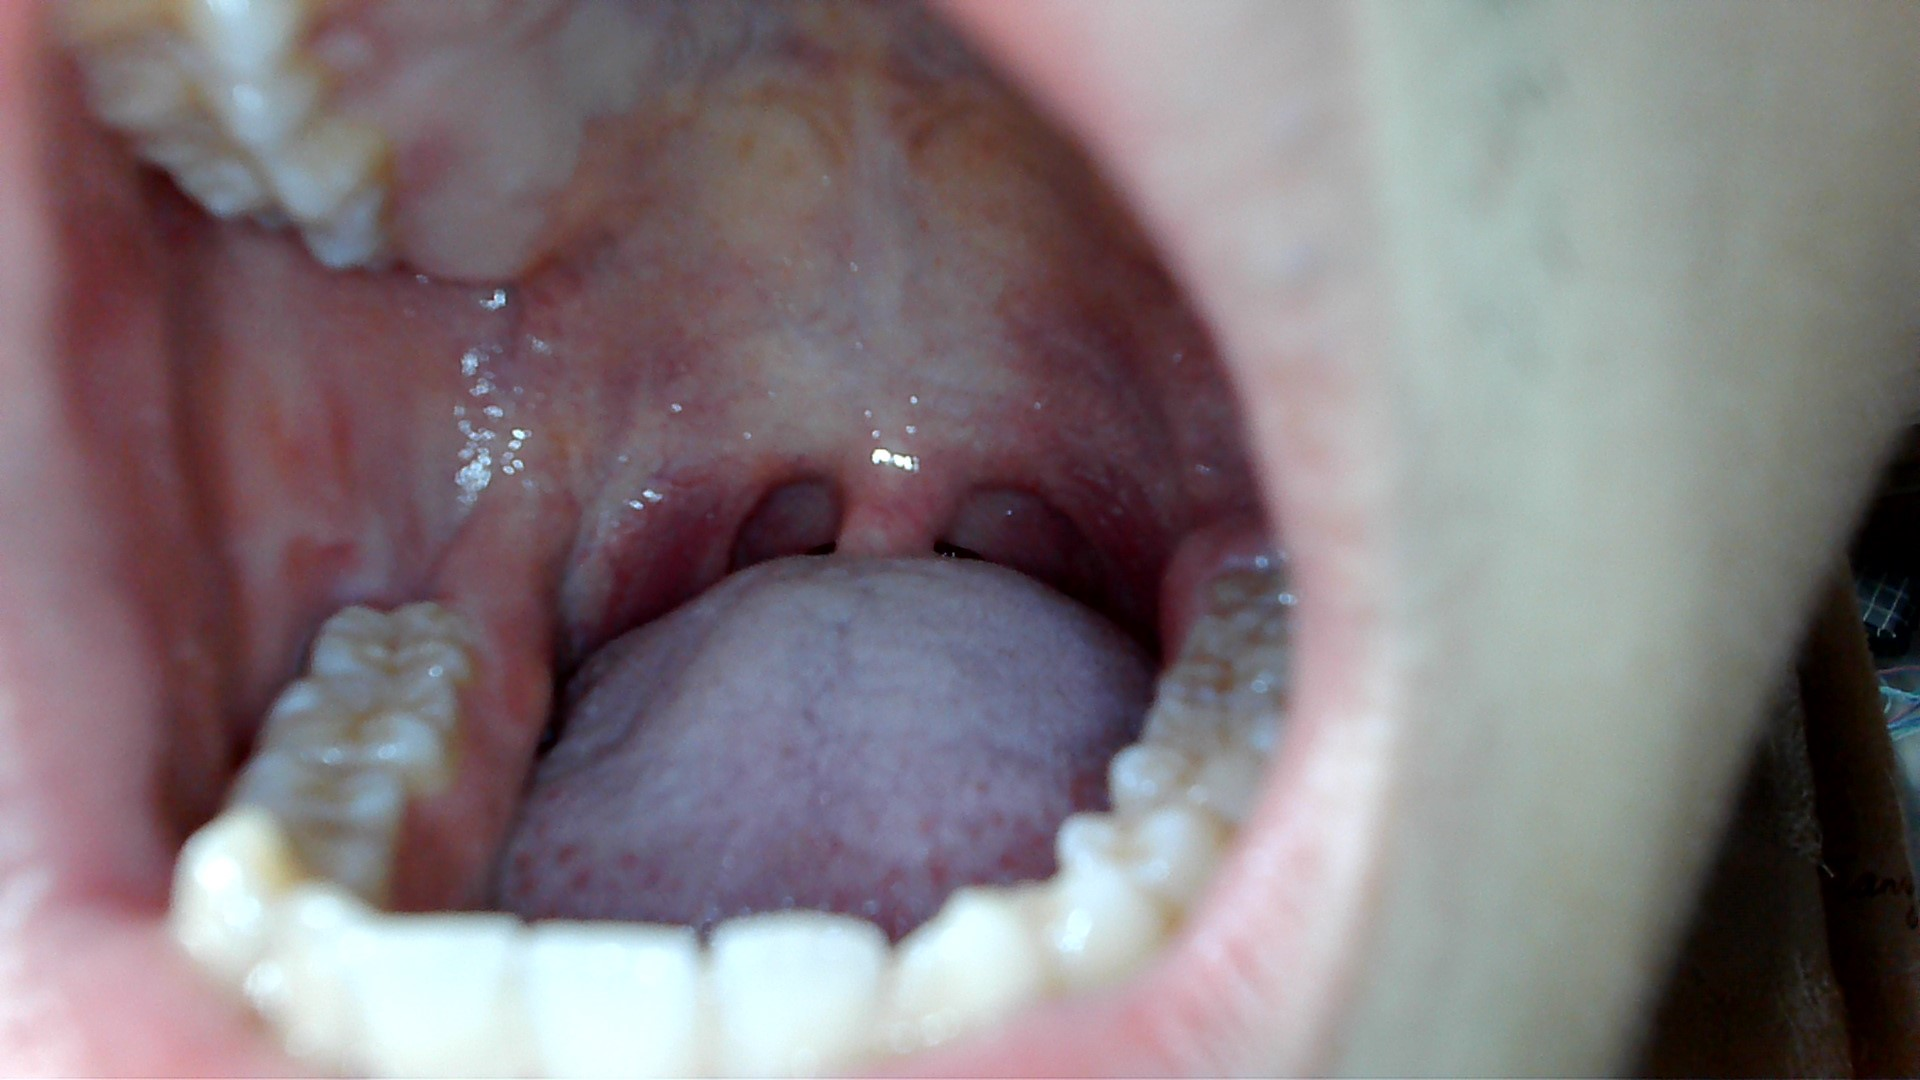throat: (1042, 456, 1150, 628), (666, 448, 758, 588)
